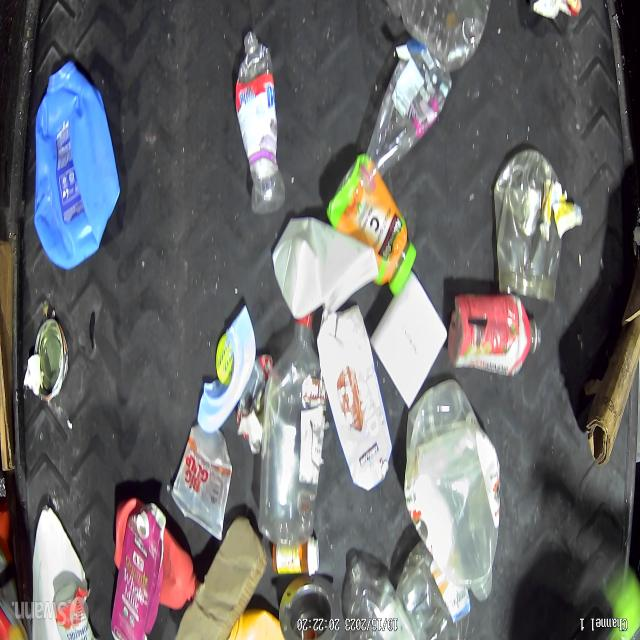can: (32, 316, 70, 404), (53, 582, 96, 640)
non_white_jug: (404, 379, 501, 604), (33, 58, 121, 272), (112, 497, 199, 611), (110, 499, 165, 640)
plastic_bottle: (257, 312, 326, 550), (359, 46, 453, 196), (234, 28, 286, 216)
